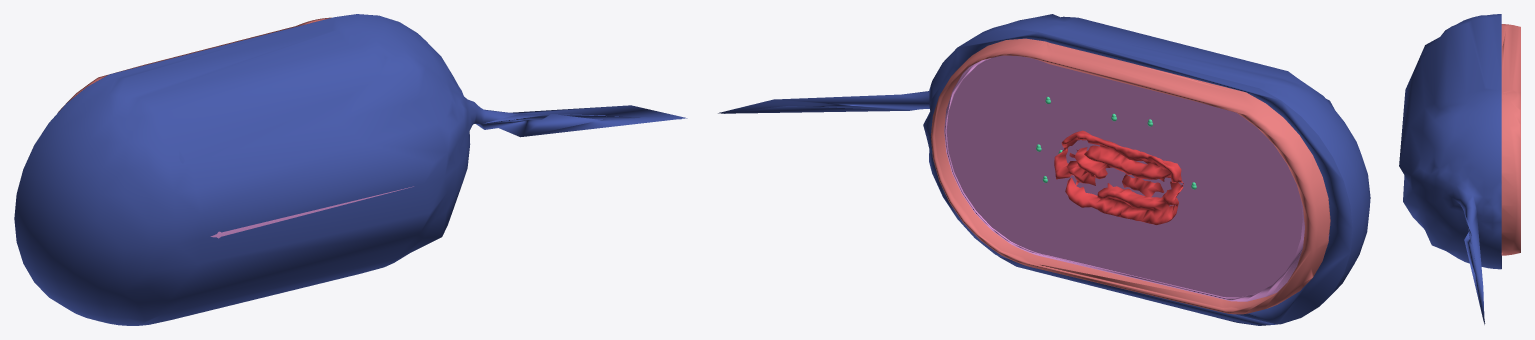
Rendered from cellula_batterica 1.fbx.
The picture shows the model from 3 angles, left to right: view 1: azimuth 30°, elevation 25°; view 2: azimuth 150°, elevation 25°; view 3: azimuth 270°, elevation 25°; orthographic projection. The views are drawn at different scales.
Visible parts, largest first — view 1: parete, citoplasma; view 2: citoplasma, parete, membrana, nucleoide; view 3: parete, membrana.
Part boxes in pixels (<box>): parete: <box>14,14,687,325</box>; citoplasma: <box>210,186,413,238</box>; citoplasma: <box>944,55,1329,301</box>; parete: <box>718,14,1370,325</box>; membrana: <box>931,38,1330,314</box>; nucleoide: <box>1054,130,1183,224</box>; parete: <box>1399,14,1501,324</box>; membrana: <box>1501,24,1520,255</box>.
Size of the model in its own units: 904 by 323 by 210.
